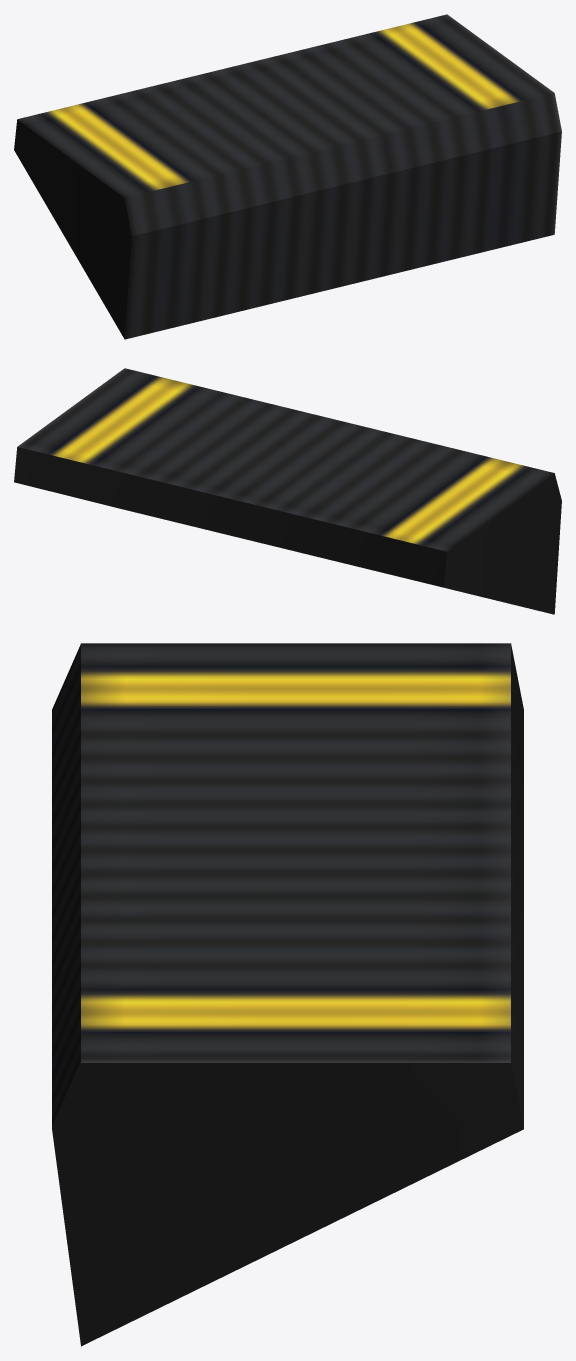
The model's file is SM_Bld_Escalator_Step_01.fbx.
3 renders of one model, top to bottom at view 1: azimuth 30°, elevation 25°; view 2: azimuth 150°, elevation 25°; view 3: azimuth 270°, elevation 25°, orthographic. The views are drawn at different scales.
Parts seen in each view (by area): view 1: SM_Bld_Escalator_Step_01; view 2: SM_Bld_Escalator_Step_01; view 3: SM_Bld_Escalator_Step_01.
Boxes of the visible parts, x1,y1,x2,y2 form: SM_Bld_Escalator_Step_01: [14, 14, 561, 339]; SM_Bld_Escalator_Step_01: [14, 368, 561, 614]; SM_Bld_Escalator_Step_01: [52, 643, 523, 1346].
Size of the model in its own units: 1.33 by 0.4196 by 0.6332.
